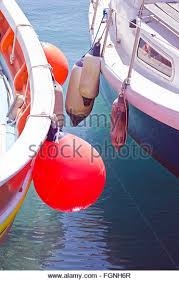buoy: (34, 132, 105, 213), (32, 40, 69, 94)
